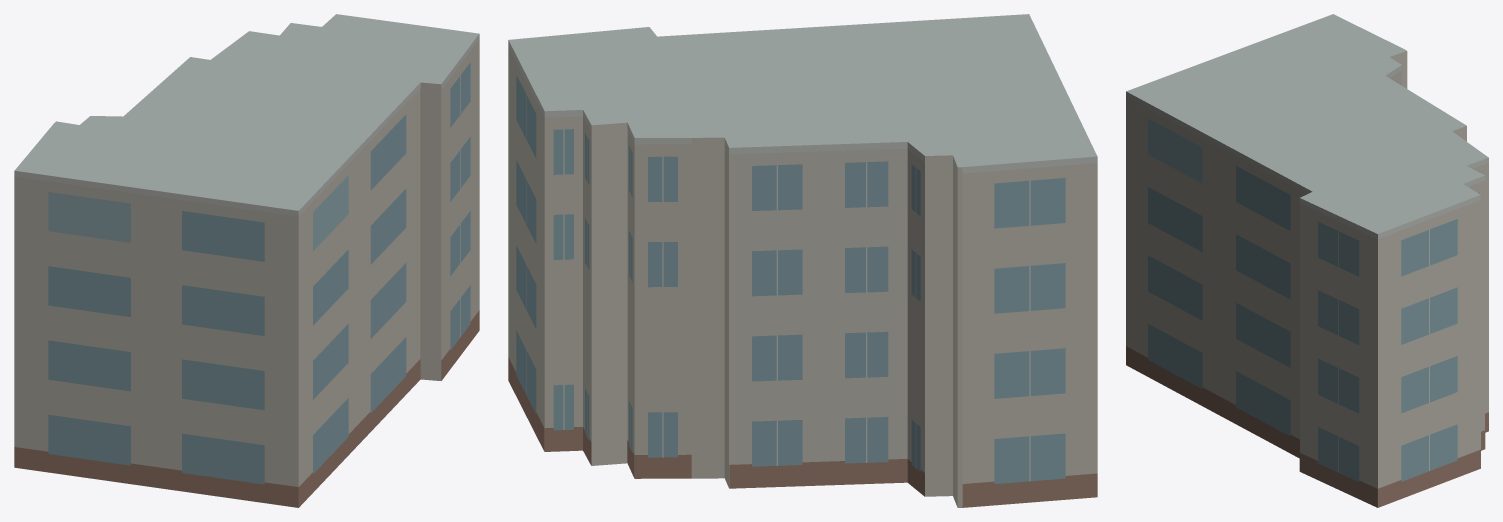
File: survey-upis-32835159.glb
3 views of the same model, side by side, from view 1: azimuth 30°, elevation 25°; view 2: azimuth 150°, elevation 25°; view 3: azimuth 270°, elevation 25° (orthographic). The views are drawn at different scales.
Parts seen in each view (by area): view 1: survey-upis-32835159.tmp; view 2: survey-upis-32835159.tmp; view 3: survey-upis-32835159.tmp.
Part boxes in pixels (x1,y1,x2,y2): survey-upis-32835159.tmp: (14, 14, 479, 507); survey-upis-32835159.tmp: (508, 14, 1097, 507); survey-upis-32835159.tmp: (1126, 14, 1488, 507).
Size of the model in its own units: 22.08 by 12.8 by 15.38.
